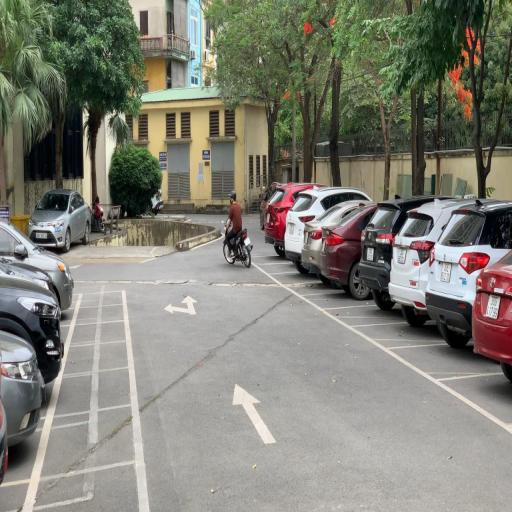bike: (221, 190, 253, 268)
numberplate: (244, 237, 250, 247)
with helmet: (228, 191, 237, 199)
